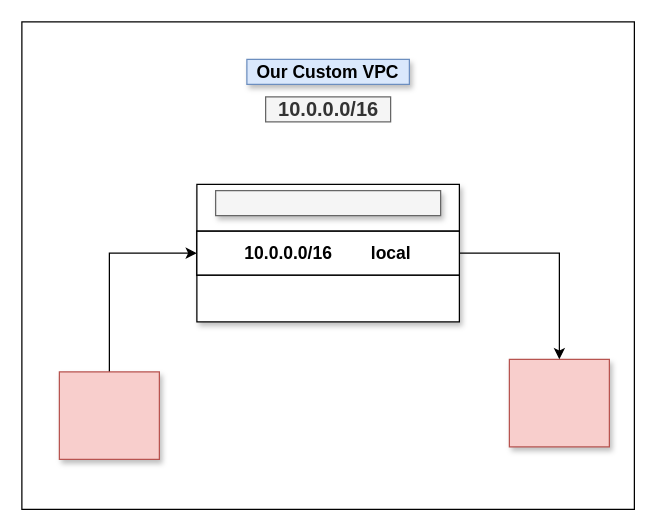
Image size: 656x531. Some labels were removed from this diagram. Here are the shapes that lost their labels. From the top down, the centre of each, then its label:
At [328,204]: "ROUTE TABLE".
At [110,417]: "EC2 (public) 10.0.0.255".
At [560,404]: "EC2 (private) 10.0.1.21".
